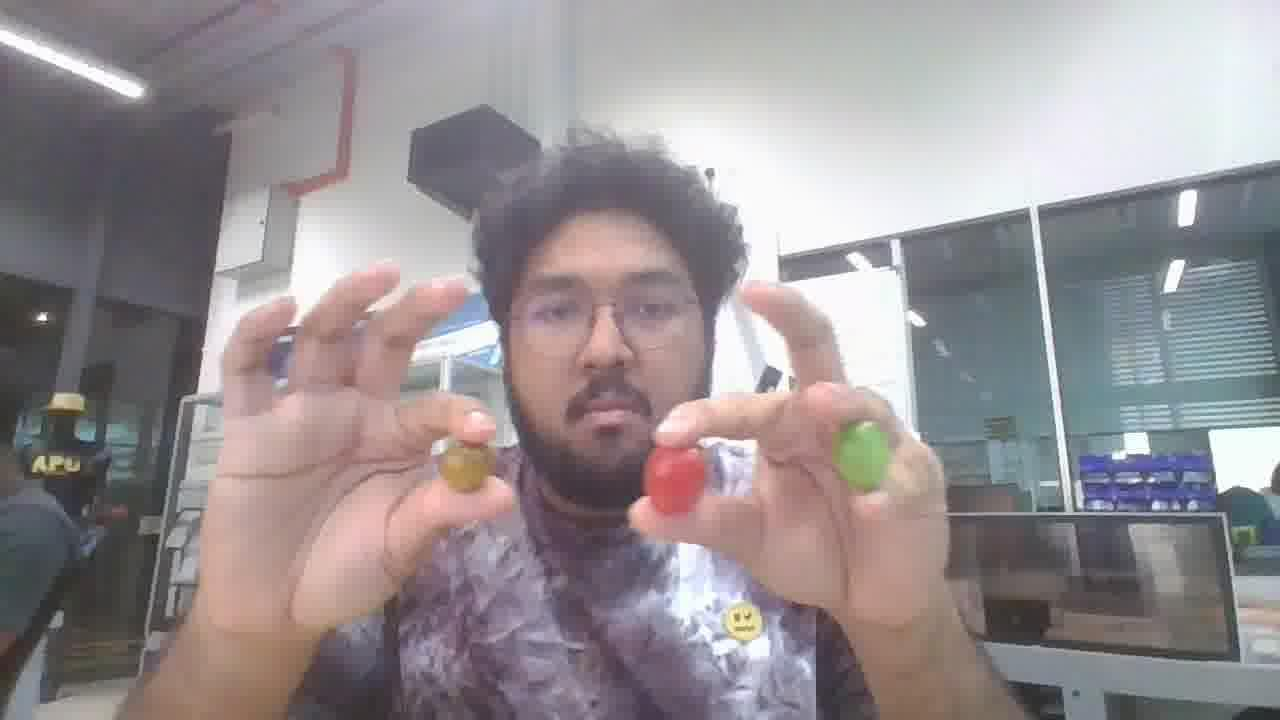green_cherry_tomato: (832, 421, 889, 492)
red_cherry_tomato: (645, 447, 706, 513)
yellow_cherry_tomato: (439, 441, 495, 492)
